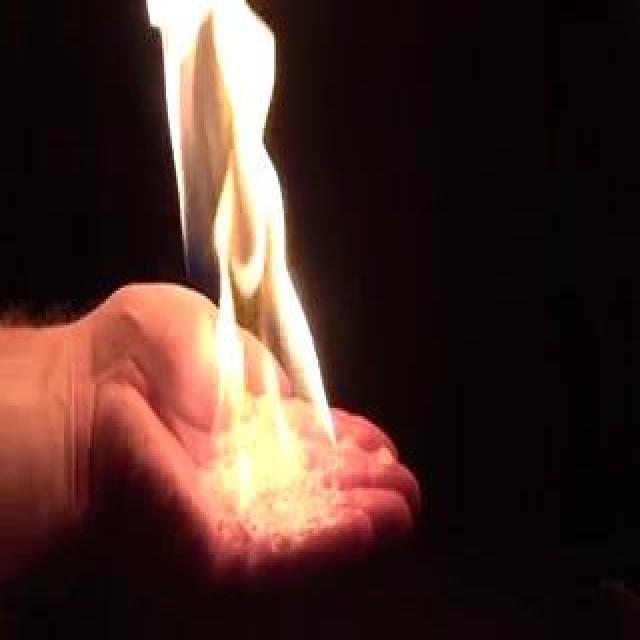Fire: (162, 238, 241, 472)
